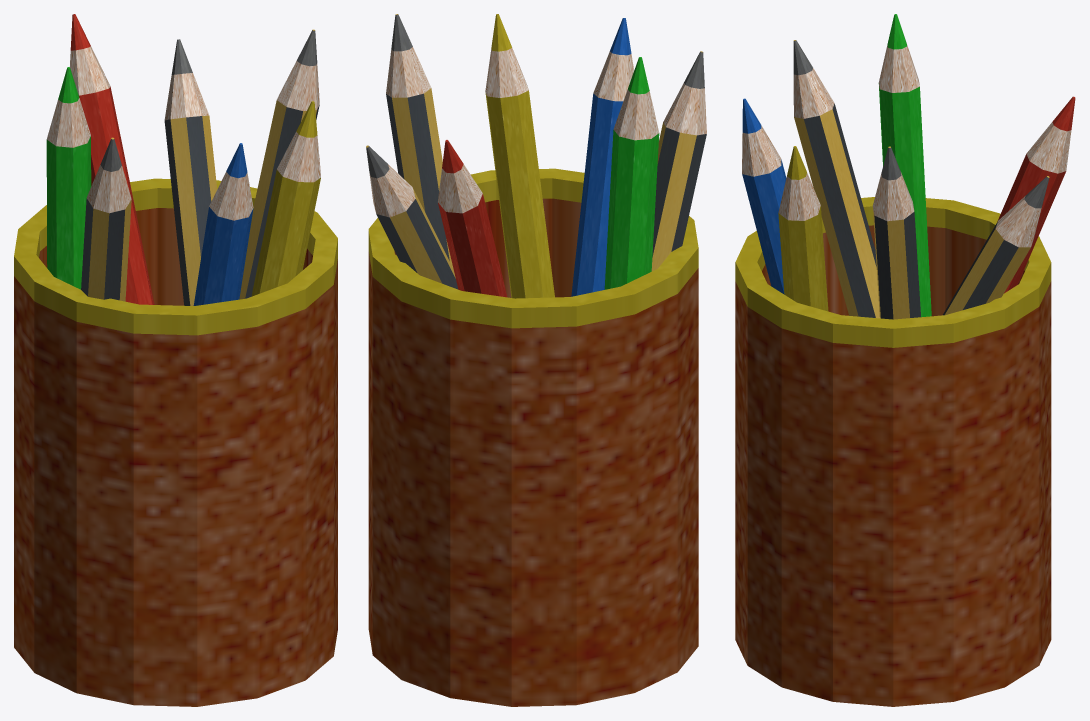
The model's file is pencils.fbx.
The picture shows the model from 3 angles, left to right: view 1: azimuth 30°, elevation 25°; view 2: azimuth 150°, elevation 25°; view 3: azimuth 270°, elevation 25°; orthographic projection. The views are drawn at different scales.
Visible parts, largest first — view 1: Cylinder, Cylinder.007, Cylinder.001, Cylinder.005, Cylinder.006, Cylinder.004, Cylinder.002, Cylinder.003; view 2: Cylinder, Cylinder.005, Cylinder.001, Cylinder.004, Cylinder.003, Cylinder.006, Cylinder.002, Cylinder.007; view 3: Cylinder, Cylinder.006, Cylinder.001, Cylinder.003, Cylinder.005, Cylinder.007, Cylinder.004, Cylinder.002.
Boxes of the visible parts, x1,y1,x2,y2 form: Cylinder: (14,178,337,706); Cylinder.007: (164,39,217,305); Cylinder.001: (46,67,91,289); Cylinder.005: (251,101,320,296); Cylinder.006: (81,137,131,301); Cylinder.004: (193,143,253,305); Cylinder.002: (70,14,154,304); Cylinder.003: (239,29,319,299); Cylinder: (368,168,698,706); Cylinder.005: (485,14,554,298); Cylinder.001: (604,57,659,289); Cylinder.004: (571,18,634,296); Cylinder.003: (386,14,453,268); Cylinder.006: (651,51,706,271); Cylinder.002: (438,140,507,297); Cylinder.007: (366,145,458,289); Cylinder: (735,197,1051,706); Cylinder.006: (793,40,879,318); Cylinder.001: (878,14,931,317); Cylinder.003: (872,146,920,319); Cylinder.005: (778,146,828,311); Cylinder.007: (943,176,1049,315); Cylinder.004: (742,98,786,294); Cylinder.002: (997,96,1075,293).
Size of the model in its own units: 159 by 321 by 172.
Materials: 10 (10 with a texture image).
